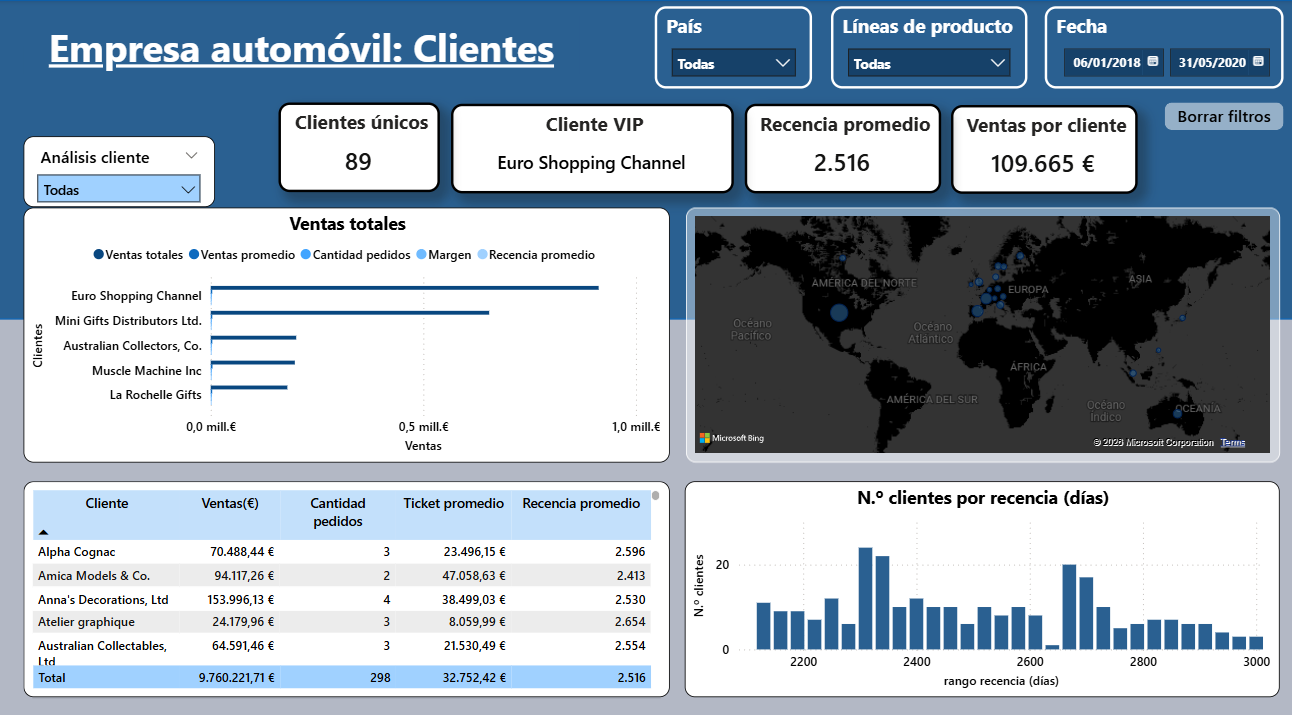

The page's visual inventory and layout, read from the dashboard file:
{"tool":"powerbi","page":{"name":"Clientes","canvas":[1280,720],"ordinal":1},"visuals":[{"type":"cardVisual","title":"Clientes únicos","fields":{"Data":["Count(coches_limpio.customer_name)"]},"box":[177.9,115.1,209.2,87.6],"z":0},{"type":"shape","box":[0,0,1280.3,313.5],"z":1000},{"type":"slicer","title":"Líneas de producto","fields":{"Values":["coches_limpio.product_line"]},"box":[824.5,6.1,192.6,81],"z":2000},{"type":"slicer","title":"Fecha","fields":{"Values":["coches_limpio.order_date"]},"box":[1034.4,6.1,234.4,81],"z":3000},{"type":"slicer","title":"País","fields":{"Values":["coches_limpio.country"]},"box":[651.5,6.1,154.6,81],"z":4000},{"type":"textbox","box":[32.3,15.4,545.6,72.2],"z":5000},{"type":"cardVisual","title":"Ventas por cliente","fields":{"Data":["coches_limpio.Ventas_por_cliente"]},"box":[942.3,103.1,182.8,87.1],"z":6000},{"type":"cardVisual","title":"Recencia promedio","fields":{"Data":["coches_limpio.Recencia_promedio"]},"box":[739.9,101.8,192.6,88.3],"z":7000},{"type":"cardVisual","title":"Cliente VIP","fields":{"Data":["Min(coches_limpio.customer_name)"]},"box":[451.5,101.8,277.3,88.3],"z":8000},{"type":"cardVisual","title":"Clientes únicos","fields":{"Data":["coches_limpio.Clientes_unicos"]},"box":[282.2,100.6,158.3,88.3],"z":9000},{"type":"clusteredBarChart","fields":{"Y":["coches_limpio.ventas totales","coches_limpio.ventas_prom","coches_limpio.pedidos_cantidad","coches_limpio.Margen","coches_limpio.Recencia_promedio"],"Category":["coches_limpio.customer_name"]},"box":[31.9,203.7,634.4,250.3],"z":10000},{"type":"slicer","title":"jikj","fields":{"Values":["parametro_analisis_clientes.parametro_analisis_clientes"]},"box":[31.9,133.7,187.7,69.9],"z":11000},{"type":"map","fields":{"Category":["coches_limpio.country"],"Size":["Sum(coches_limpio.sales)"]},"box":[682.2,203.7,582.8,250.3],"z":12000},{"type":"tableEx","fields":{"Values":["coches_limpio.customer_name","Sum(coches_limpio.sales)","coches_limpio.pedidos_cantidad","coches_limpio.Ticket_promedio","coches_limpio.Recencia_promedio"]},"box":[31.9,472.4,634.4,212.3],"z":13000},{"type":"clusteredColumnChart","title":"N.º clientes por recencia (días)","fields":{"Category":["coches_limpio.Rango_recencia"],"Y":["Count(coches_limpio.customer_name)"]},"box":[681,472.4,584.1,212.3],"z":14000},{"type":"actionButton","box":[1152.2,100.6,116.6,27],"z":15000}]}

Visuals, with their boxes in screenshot pixels (x1, y1, x2, y2), scaled from the page's 1280x720 canvas onto the 1292x715 screenshot:
"Clientes únicos" cardVisual: Rect(180, 114, 391, 201)
shape: Rect(0, 0, 1291, 311)
"Líneas de producto" slicer: Rect(832, 6, 1027, 86)
"Fecha" slicer: Rect(1044, 6, 1281, 86)
"País" slicer: Rect(658, 6, 814, 86)
textbox: Rect(33, 15, 583, 87)
"Ventas por cliente" cardVisual: Rect(951, 102, 1136, 189)
"Recencia promedio" cardVisual: Rect(747, 101, 941, 189)
"Cliente VIP" cardVisual: Rect(456, 101, 736, 189)
"Clientes únicos" cardVisual: Rect(285, 100, 445, 188)
clusteredBarChart - coches_limpio.ventas totales x coches_limpio.ventas_prom: Rect(32, 202, 673, 451)
"jikj" slicer: Rect(32, 133, 222, 202)
map - coches_limpio.country x Sum(coches_limpio.sales): Rect(689, 202, 1277, 451)
tableEx - coches_limpio.customer_name x Sum(coches_limpio.sales): Rect(32, 469, 673, 680)
"N.º clientes por recencia (días)" clusteredColumnChart: Rect(687, 469, 1277, 680)
actionButton: Rect(1163, 100, 1281, 127)
